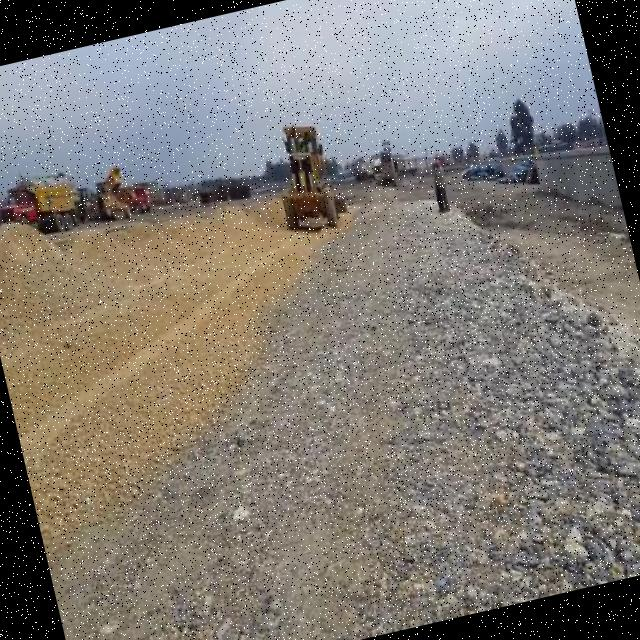Dump Truck: (375, 146, 399, 189)
